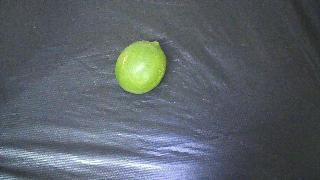LOCAL: (115, 41, 166, 94)
